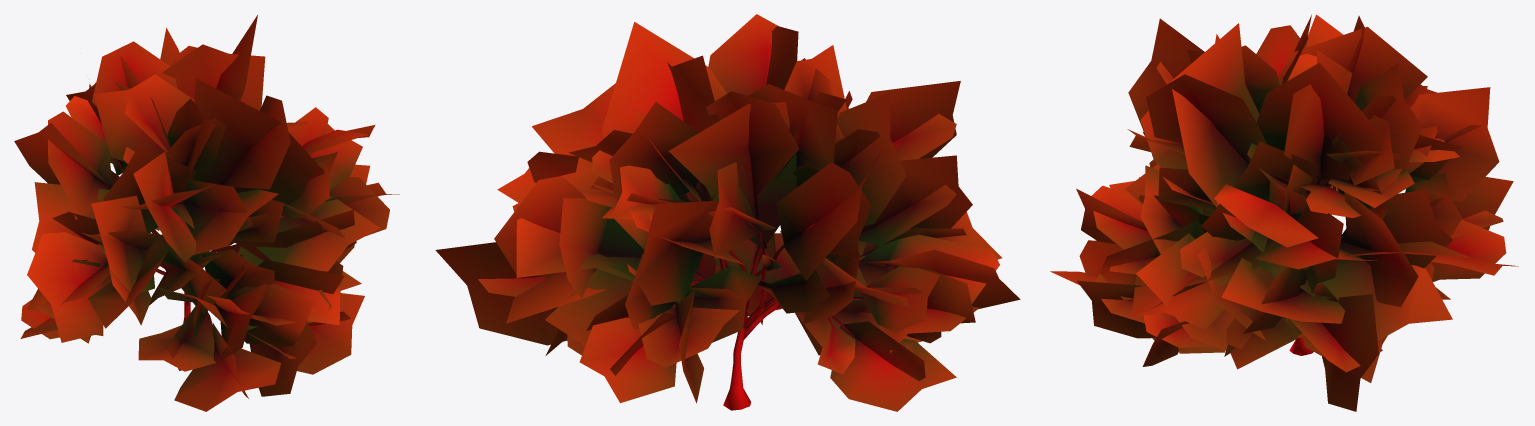
File: ShrubBush_B.fbx
3 renders of one model, left to right at view 1: azimuth 30°, elevation 25°; view 2: azimuth 150°, elevation 25°; view 3: azimuth 270°, elevation 25°, orthographic. The views are drawn at different scales.
Visible parts, largest first — view 1: ShrubBush_B_Leaves_LOD0, ShrubBush_B_Branch_LOD0; view 2: ShrubBush_B_Leaves_LOD0, ShrubBush_B_Branch_LOD0; view 3: ShrubBush_B_Leaves_LOD0.
Boxes of the visible parts, bbox=[...] form: ShrubBush_B_Leaves_LOD0: bbox=[14, 15, 399, 411]; ShrubBush_B_Branch_LOD0: bbox=[90, 159, 232, 353]; ShrubBush_B_Leaves_LOD0: bbox=[435, 14, 1020, 411]; ShrubBush_B_Branch_LOD0: bbox=[675, 164, 886, 410]; ShrubBush_B_Leaves_LOD0: bbox=[1050, 14, 1518, 411].
Size of what is drawn, in the model's own units: 382 by 278 by 361.
